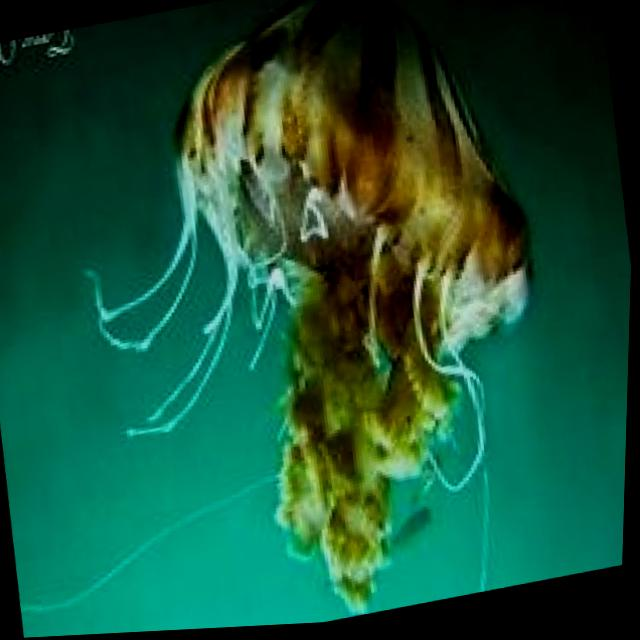Jellyfish: (40, 0, 589, 638)
